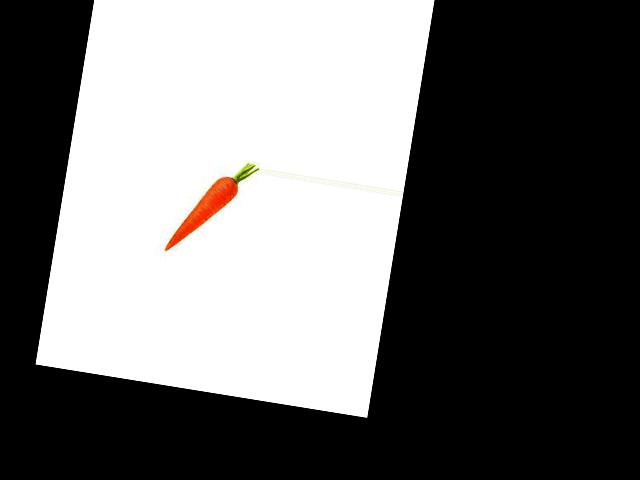carrot: (162, 166, 240, 261)
